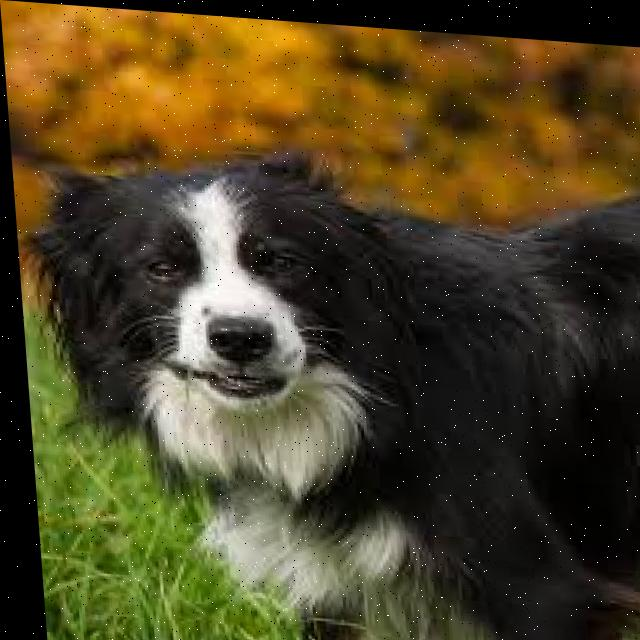BORDER_COLLIE: (7, 128, 640, 640)
